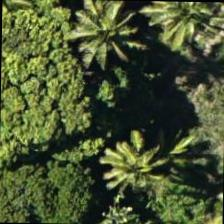Kelapa_Sawit: (97, 116, 189, 208), (63, 0, 155, 71), (134, 0, 223, 55)
